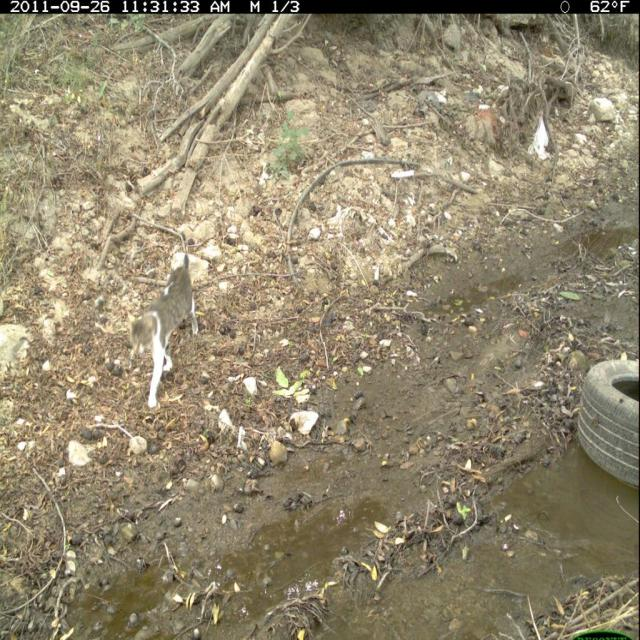cat: (125, 245, 203, 417)
